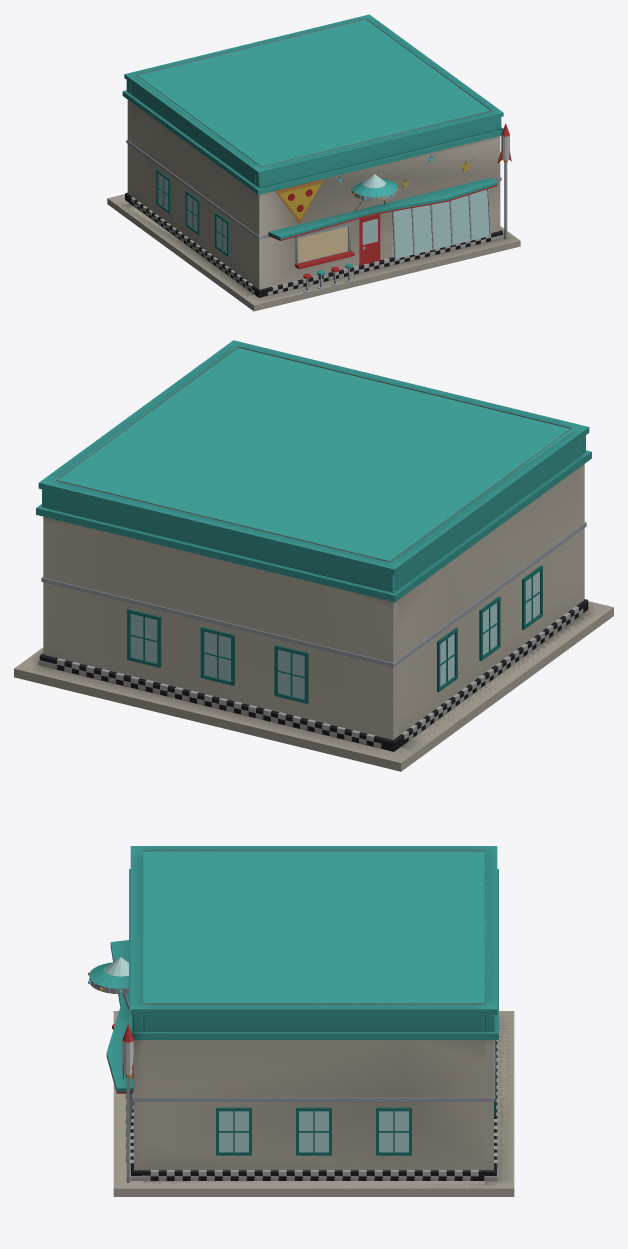
Rendered from PizzaUfoFloor.fbx.
3 renders of one model, top to bottom at view 1: azimuth 30°, elevation 25°; view 2: azimuth 150°, elevation 25°; view 3: azimuth 270°, elevation 25°, orthographic. The views are drawn at different scales.
Parts seen in each view (by area): view 1: PU_F_Rings, PU_S_All, PU_F_Smooth, PU_F_Glass, PU_F_Quiet, PU_F_Props; view 2: PU_F_Rings, PU_S_All, PU_F_Smooth, PU_F_Quiet, PU_F_Glass; view 3: PU_S_All, PU_F_Rings, PU_F_Smooth, PU_F_Glass, PU_F_Quiet, PU_F_Props.
Boxes of the visible parts, left/top/right/bottom form: PU_F_Rings: left=123, top=14, right=503, bottom=297; PU_S_All: left=107, top=18, right=520, bottom=311; PU_F_Smooth: left=122, top=74, right=511, bottom=297; PU_F_Glass: left=158, top=160, right=507, bottom=262; PU_F_Quiet: left=115, top=201, right=519, bottom=305; PU_F_Props: left=303, top=123, right=509, bottom=276; PU_F_Rings: left=36, top=340, right=591, bottom=751; PU_S_All: left=14, top=346, right=613, bottom=771; PU_F_Smooth: left=36, top=427, right=591, bottom=751; PU_F_Quiet: left=14, top=601, right=612, bottom=762; PU_F_Glass: left=130, top=571, right=539, bottom=699; PU_S_All: left=91, top=850, right=514, bottom=1196; PU_F_Rings: left=129, top=846, right=498, bottom=1172; PU_F_Smooth: left=106, top=940, right=498, bottom=1182; PU_F_Glass: left=88, top=957, right=408, bottom=1161; PU_F_Quiet: left=114, top=1011, right=513, bottom=1188; PU_F_Props: left=89, top=962, right=133, bottom=1042.
Bounding box in the file's own units: 60 × 20 × 60.
